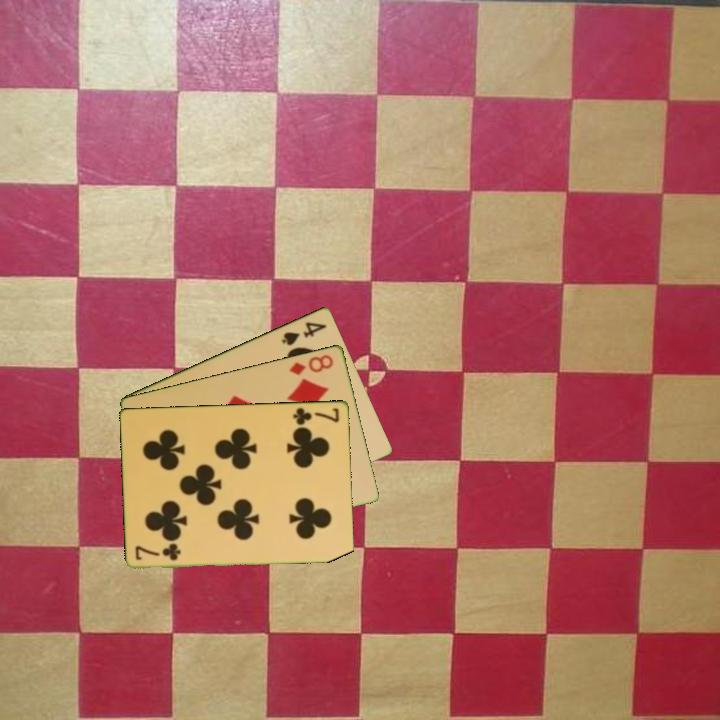4s: (278, 318, 329, 348)
7c: (290, 404, 343, 428), (132, 541, 184, 563)
8d: (286, 350, 336, 378)
